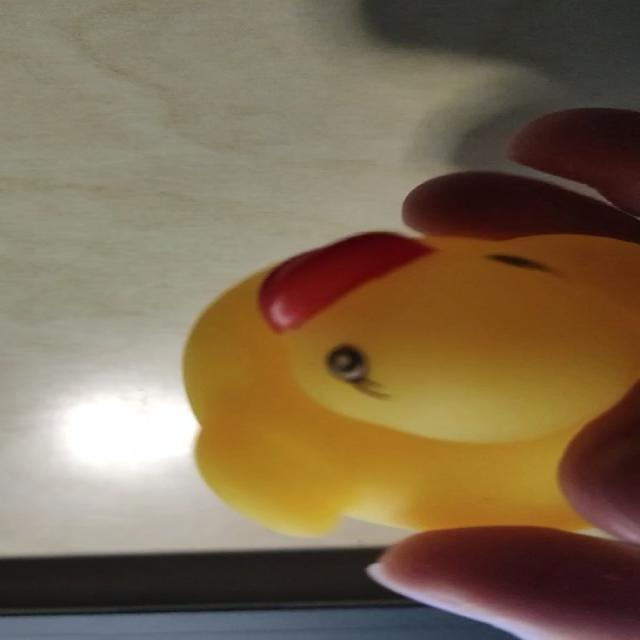rubber-duck: (183, 232, 638, 532)
